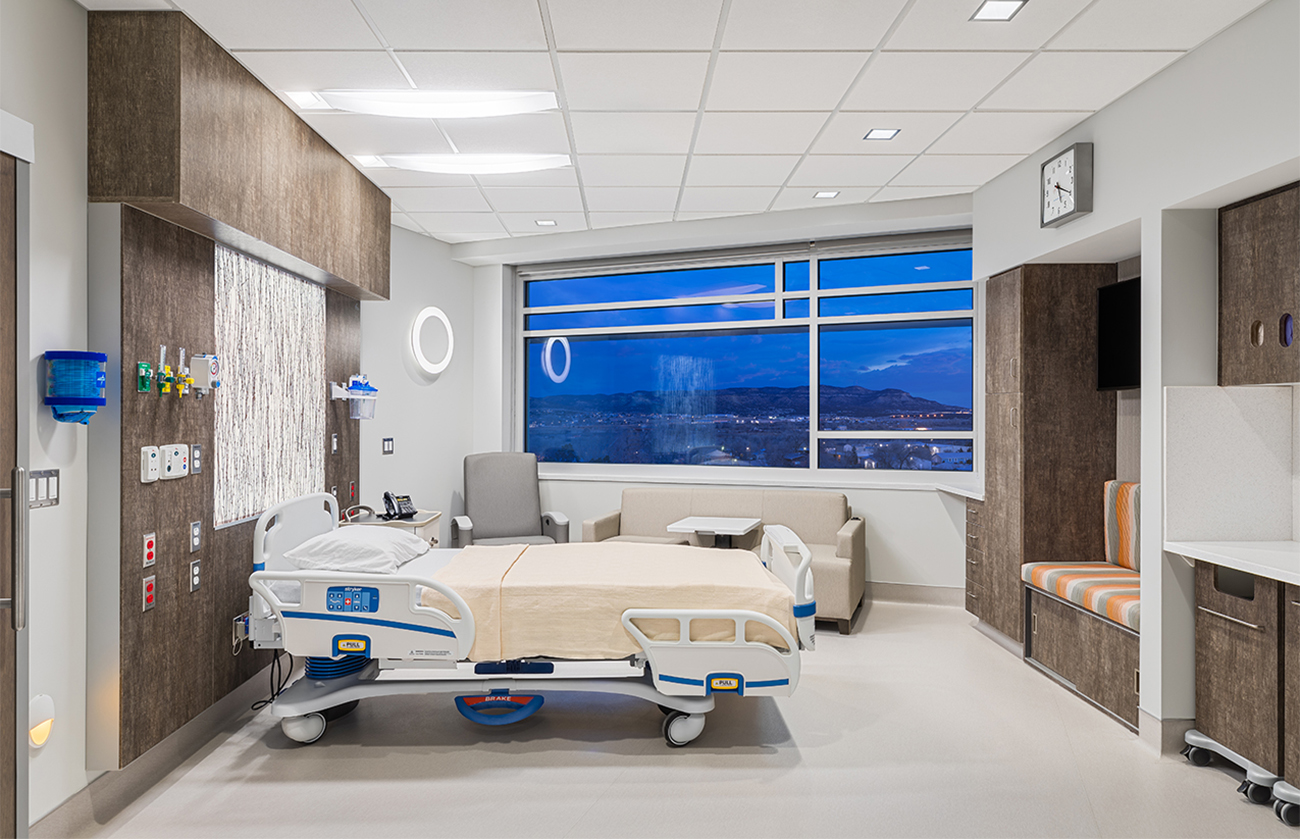TV: (1091, 277, 1140, 397)
bedrail: (246, 566, 475, 664), (620, 606, 802, 701), (252, 490, 345, 564)
cabinet: (945, 263, 1111, 671)
chair: (452, 450, 572, 544)
counter: (1171, 543, 1300, 814)
countertop: (1163, 540, 1298, 591)
dispenser: (34, 333, 114, 429)
door_handle: (1, 465, 38, 615)
foot_board: (760, 523, 812, 603)
handle: (1189, 595, 1272, 640), (1005, 354, 1021, 383), (1006, 402, 1022, 430), (963, 586, 980, 600), (964, 555, 981, 569), (964, 530, 981, 544), (965, 505, 982, 519)
hospital_bed: (244, 490, 818, 750)
light_switch: (27, 468, 61, 511)
overbed_table: (656, 514, 770, 549)
sofa: (583, 484, 867, 637), (1022, 475, 1146, 641)
telephone: (372, 484, 424, 528)
